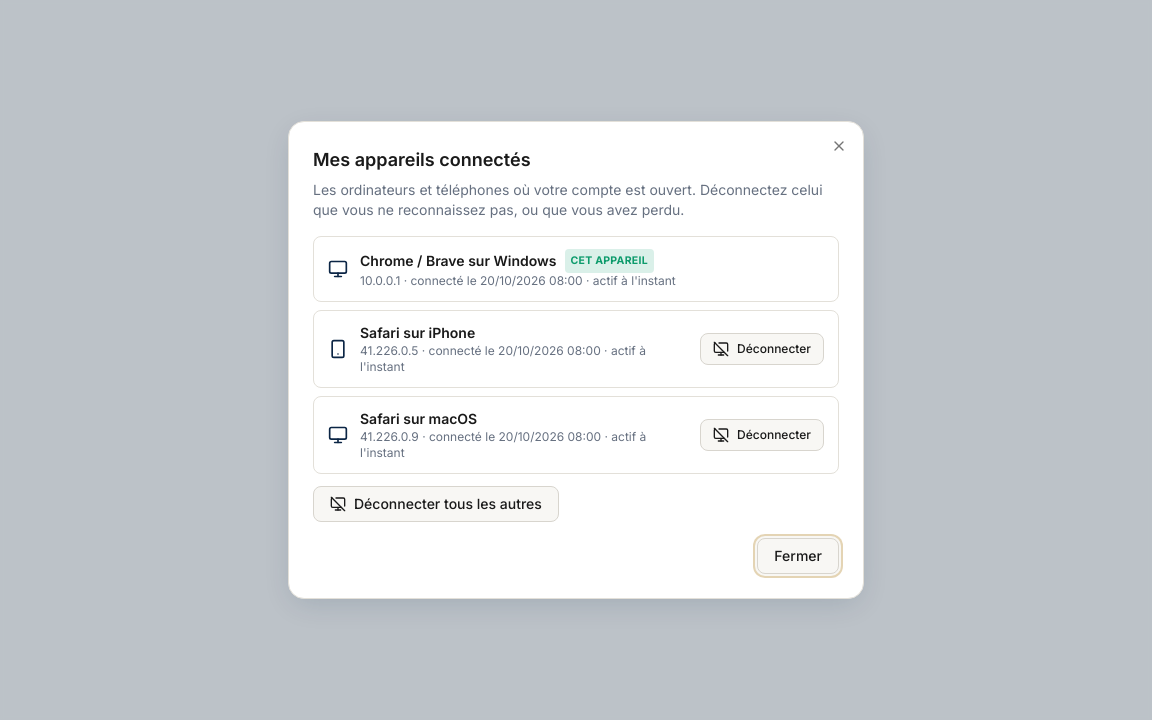
it: mes appareils connectés › « Déconnecter tous les autres » : proposé seulement s'il y a d'autres appareils ; garde cet appareil connecté
Click the button "Déconnecter tous les autres".
click(436, 504)  # box [313,486,559,522]
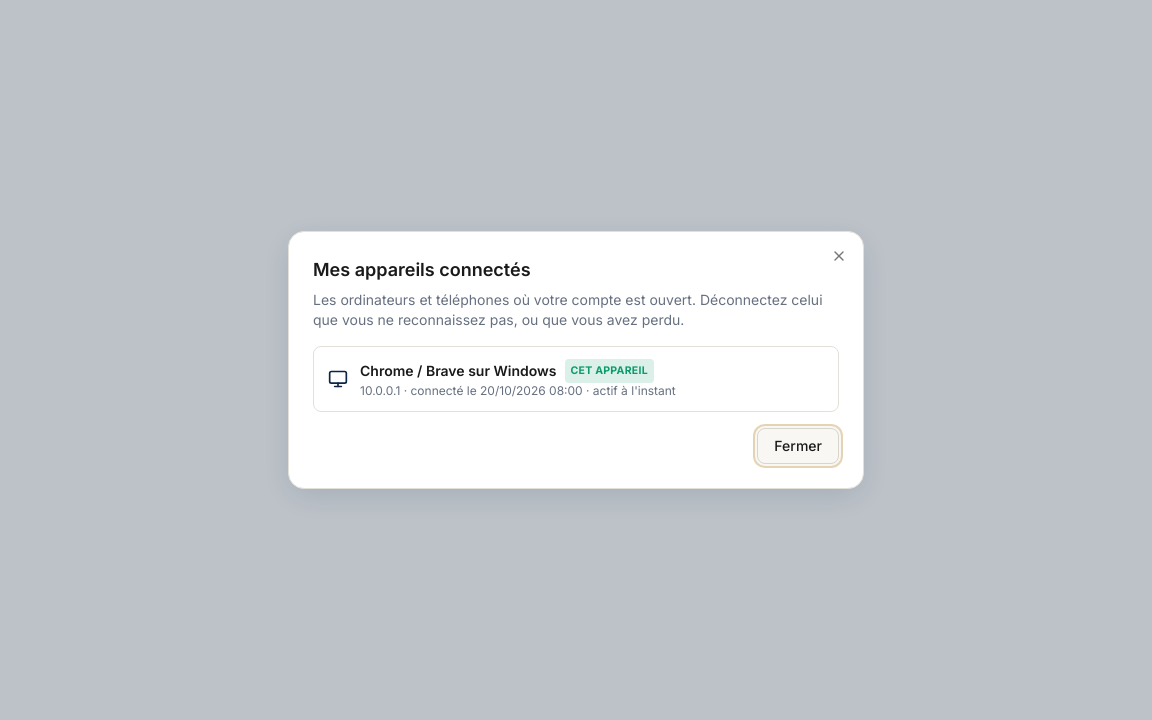
Expected: the text "Safari sur iPhone" is gone
Expected: the button "Déconnecter tous les autres" is gone
